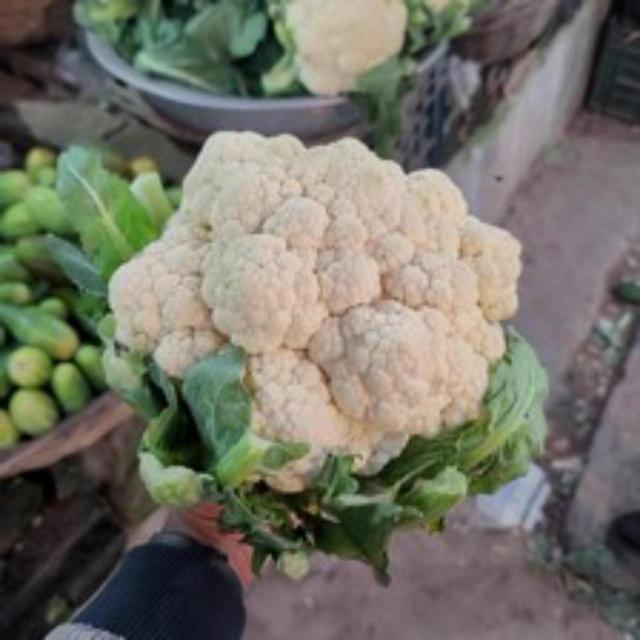cauliflower: (92, 110, 528, 478)
